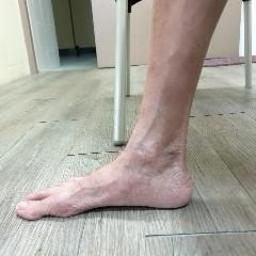Medial View -Right Foot-: (3, 106, 223, 240)
